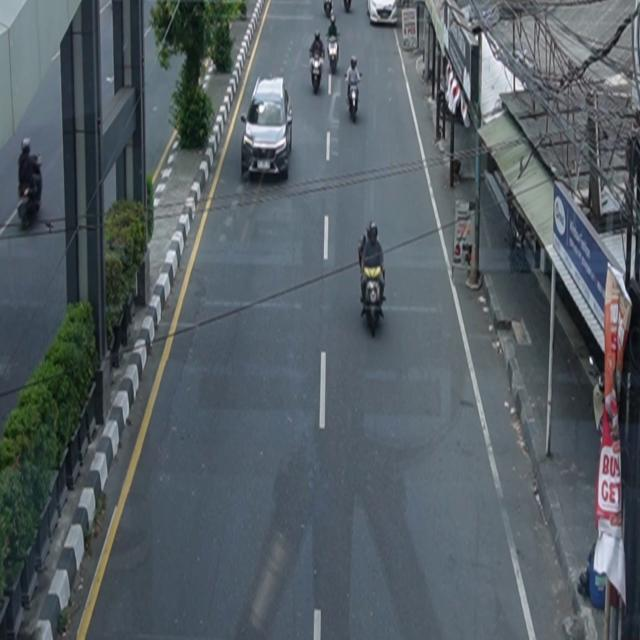car: (241, 76, 294, 180)
